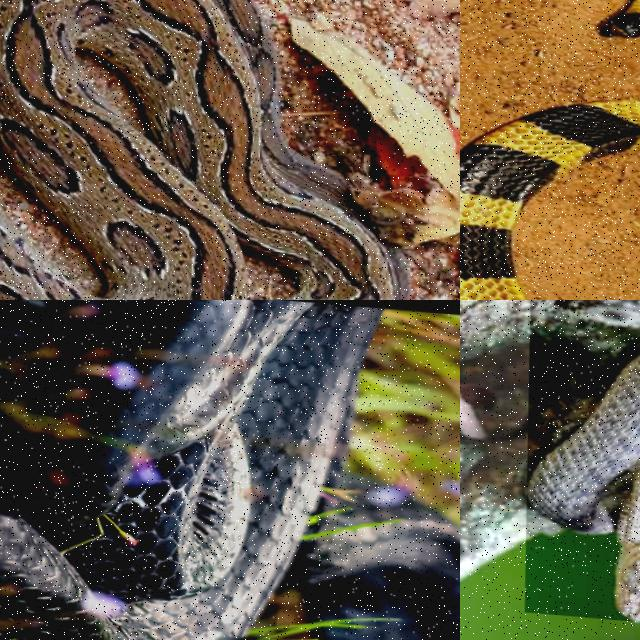Bungarus fasciatus: (460, 99, 639, 299)
Daboia siamensis: (0, 0, 408, 299)
Ophiophagus hannah: (0, 300, 379, 639)
Ovophis monticola: (526, 354, 639, 620)
snake: (0, 300, 379, 639), (0, 0, 408, 299), (460, 99, 639, 299), (526, 354, 639, 620)
